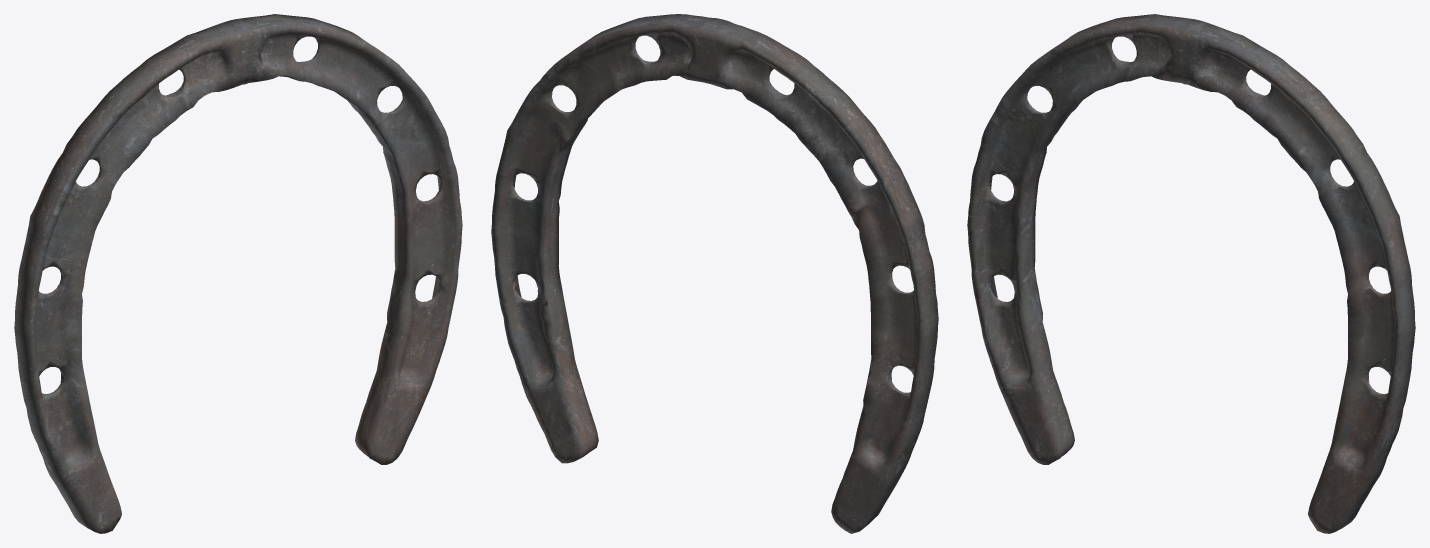
File: SM_Horse_Shoe.fbx
3 renders of one model, left to right at view 1: azimuth 30°, elevation 25°; view 2: azimuth 150°, elevation 25°; view 3: azimuth 330°, elevation 25°, orthographic.
Parts seen in each view (by area): view 1: SM_Horse_Shoe_LOD0; view 2: SM_Horse_Shoe_LOD0; view 3: SM_Horse_Shoe_LOD0.
Part boxes in pixels (bbox=[...]): SM_Horse_Shoe_LOD0: bbox=[14, 14, 462, 533]; SM_Horse_Shoe_LOD0: bbox=[491, 14, 938, 533]; SM_Horse_Shoe_LOD0: bbox=[967, 14, 1415, 533].
Bounding box in the file's own units: 20.87 × 1.48 × 21.55.
